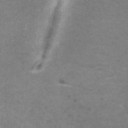finishing roll printing: (41, 0, 66, 59), (59, 78, 69, 84), (35, 62, 42, 69)
